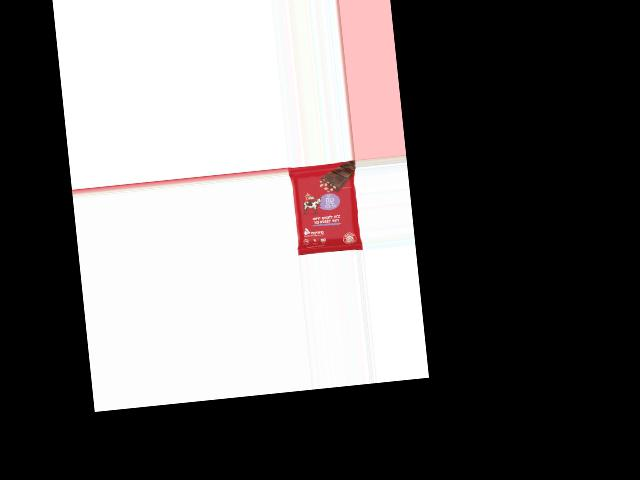chocolate: (288, 161, 361, 257)
